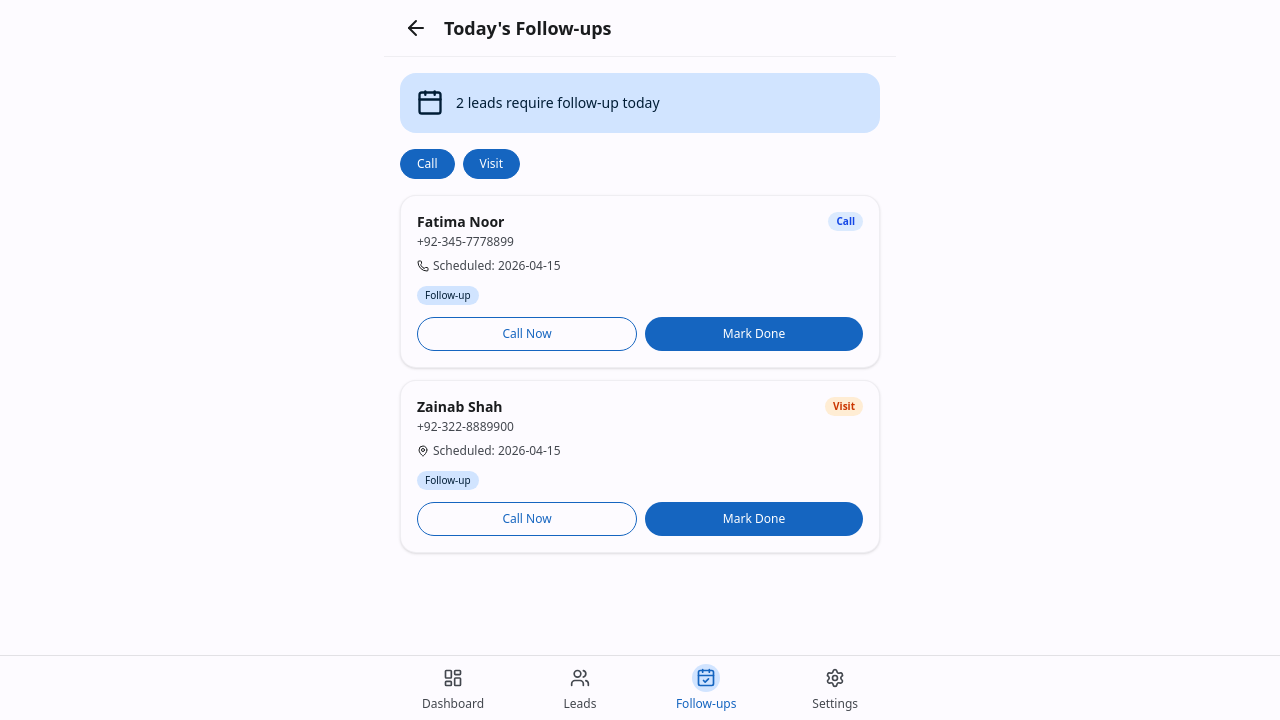
Scenario: FollowUpsPage › shows empty state when all leads are filtered out
Click the button "Call": [427, 164] box [400,149,454,179]
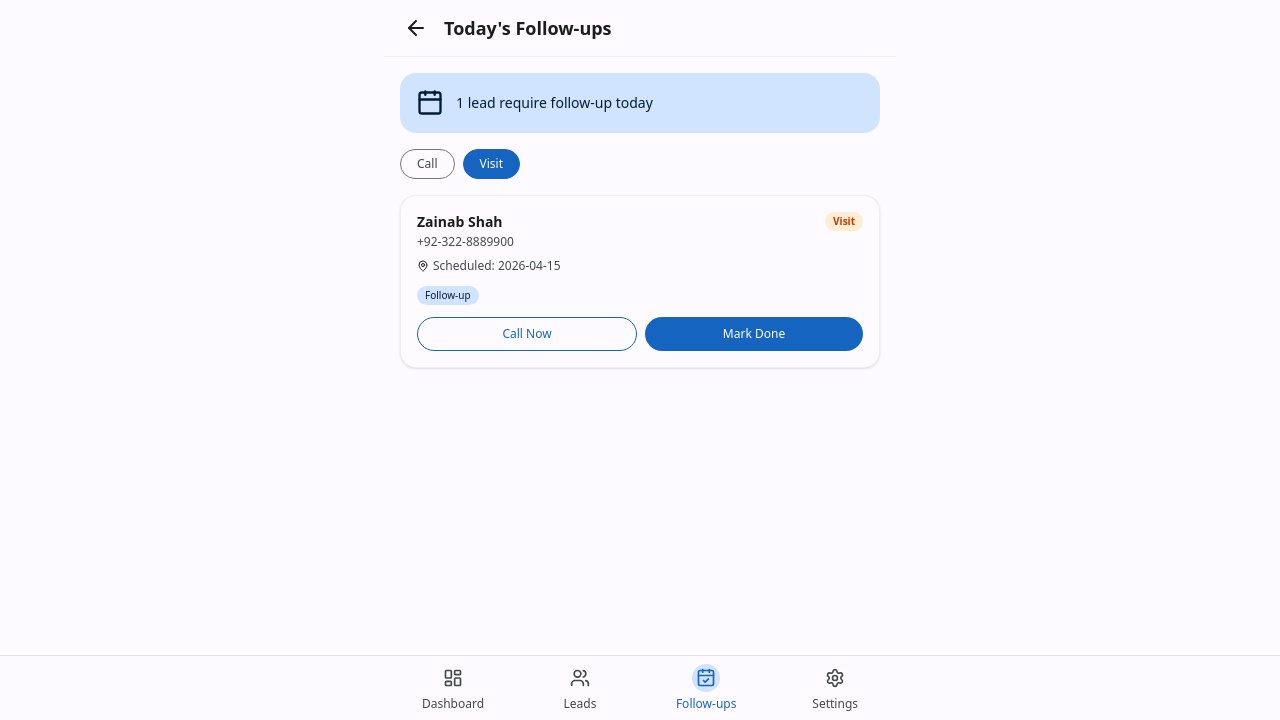
Click the button "Visit": [491, 164] box [462,149,520,179]
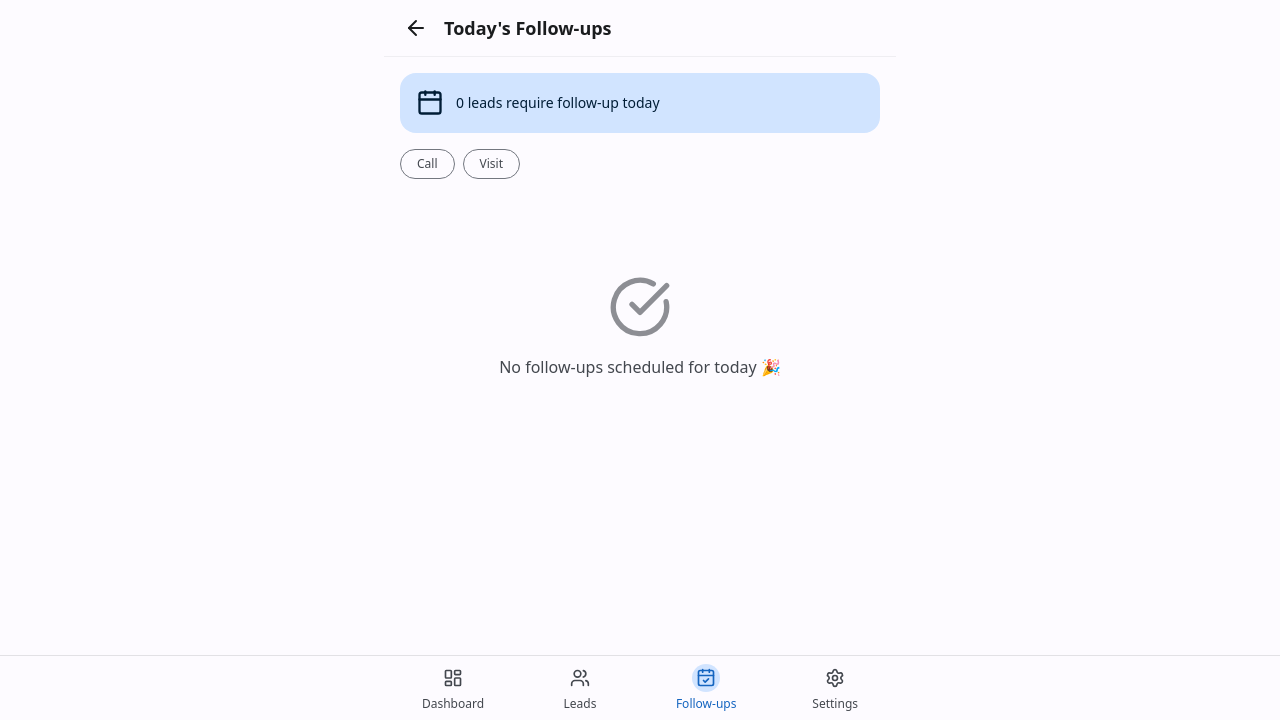
Expected: the text "No follow-ups scheduled for today 🎉" is shown, [499,355,781,379]
